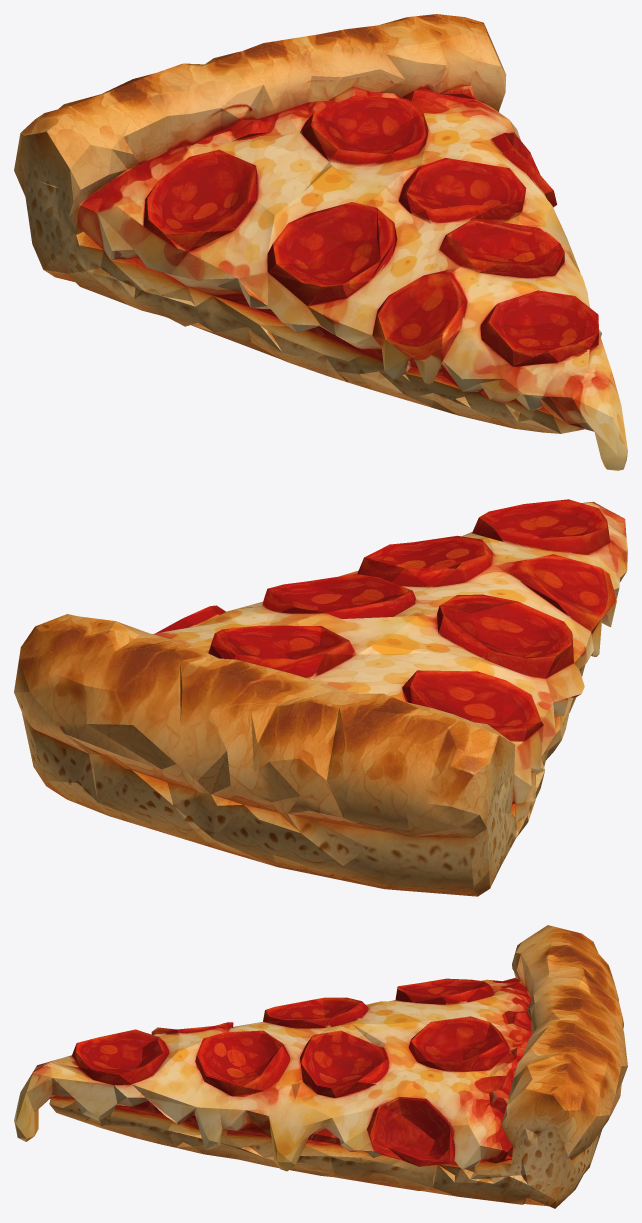
Rendered from pizza-slice.glb.
3 renders of one model, top to bottom at view 1: azimuth 30°, elevation 25°; view 2: azimuth 150°, elevation 25°; view 3: azimuth 270°, elevation 25°, orthographic. The views are drawn at different scales.
Size of the model in its own units: 0.1679 by 0.061 by 0.2488.
1 material, 1 textured.
